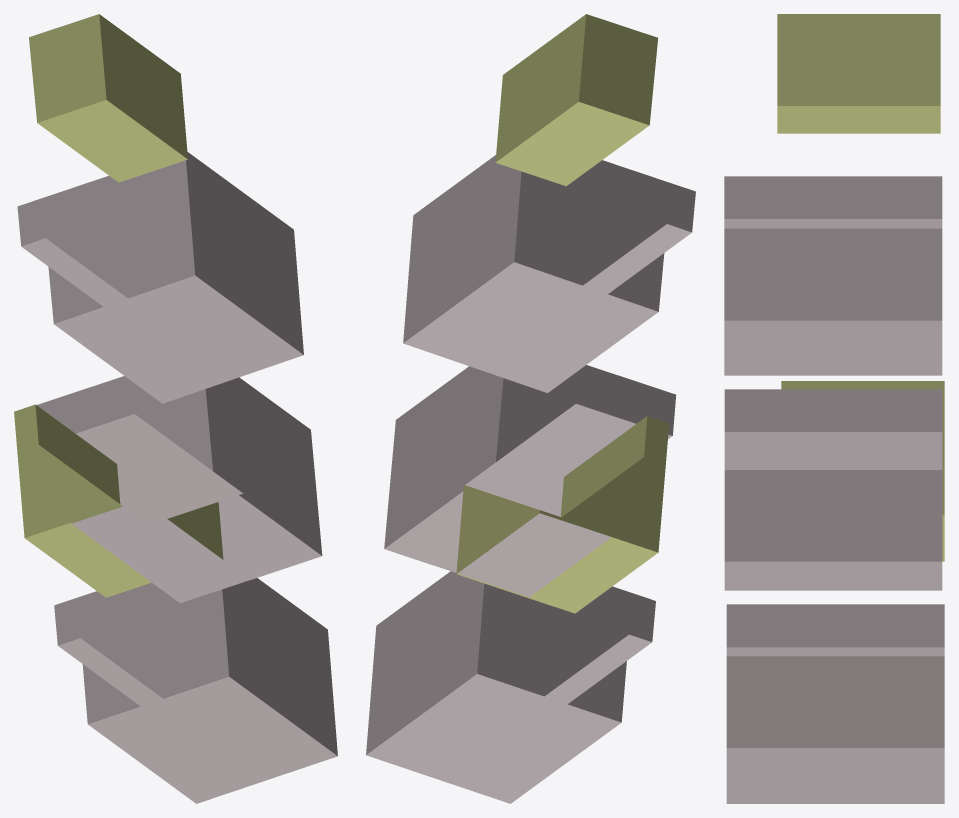
3 renders of one model, left to right at view 1: azimuth 30°, elevation 25°; view 2: azimuth 150°, elevation 25°; view 3: azimuth 270°, elevation 25°, orthographic. The views are drawn at different scales.
Visible parts, largest first — view 1: 0_2_3_3_3_1_0_1; view 2: 0_2_3_3_3_1_0_1; view 3: 0_2_3_3_3_1_0_1.
Part boxes in pixels (x1,y1,x2,y2): 0_2_3_3_3_1_0_1: (14,14,337,803); 0_2_3_3_3_1_0_1: (366,14,695,803); 0_2_3_3_3_1_0_1: (724,14,944,803).
Bounding box in the file's own units: 13.71 × 43.18 × 12.13.
